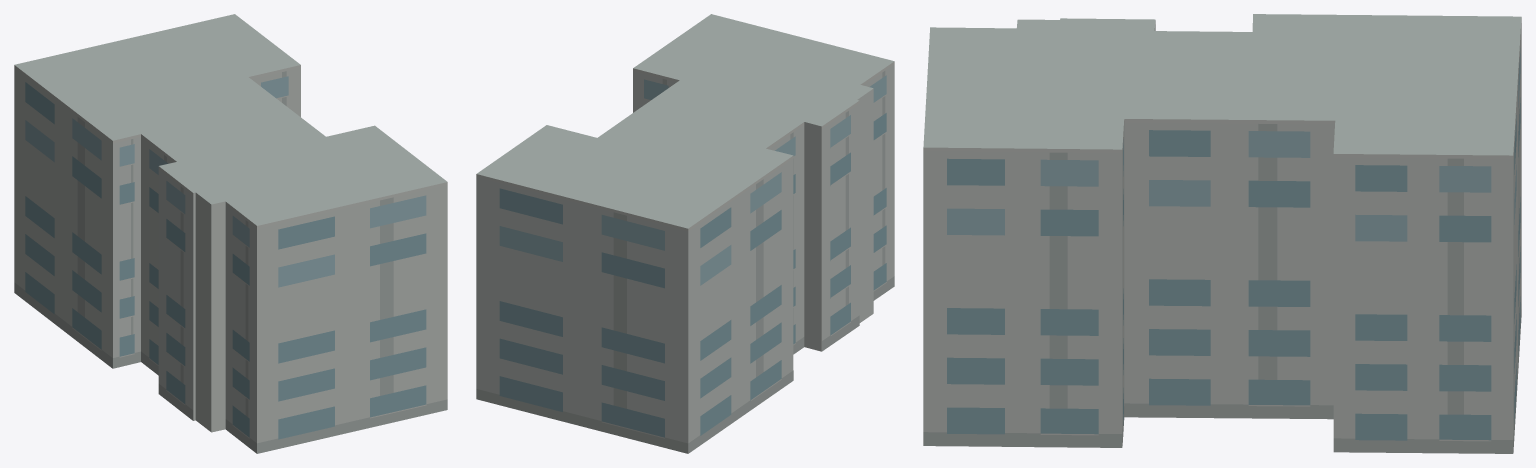
Rendered from survey-upis-32986293.glb.
3 views of the same model, side by side, from view 1: azimuth 30°, elevation 25°; view 2: azimuth 150°, elevation 25°; view 3: azimuth 270°, elevation 25° (orthographic). The views are drawn at different scales.
Visible parts, largest first — view 1: survey-upis-32986293.tmp; view 2: survey-upis-32986293.tmp; view 3: survey-upis-32986293.tmp.
Part boxes in pixels (<box>): survey-upis-32986293.tmp: <box>14,14,447,453</box>; survey-upis-32986293.tmp: <box>476,14,894,453</box>; survey-upis-32986293.tmp: <box>923,14,1521,453</box>.
Bounding box in the file's own units: 19.74 × 19.4 × 35.25.
